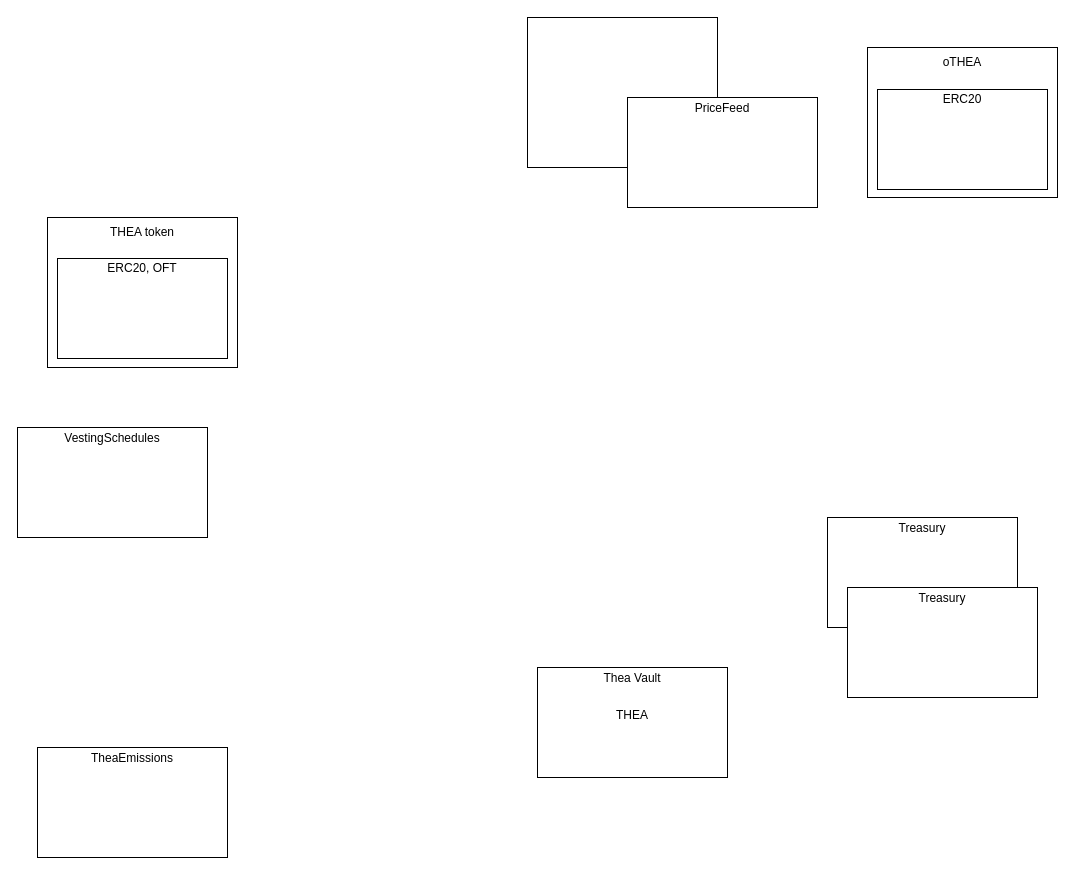
This 1075x875 diagram has some shape labels left out. The shapes that lost their labels are listed below. From the top down, each one's box as (x1, y1, x2, y2) in pixels, then its label:
(526, 16, 718, 168): oTHEA redemption Manager
(16, 426, 208, 538): (50% allocation)
